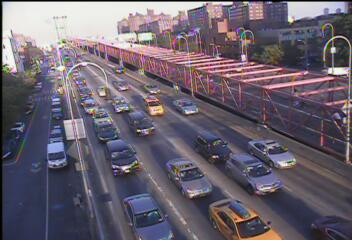neg: (158, 80, 193, 128), (125, 144, 160, 191), (47, 127, 78, 169), (134, 15, 162, 53), (270, 52, 298, 89), (241, 107, 267, 142), (221, 30, 246, 63), (203, 164, 227, 196), (58, 89, 81, 120), (67, 176, 90, 206), (76, 55, 96, 81), (79, 20, 98, 45)
